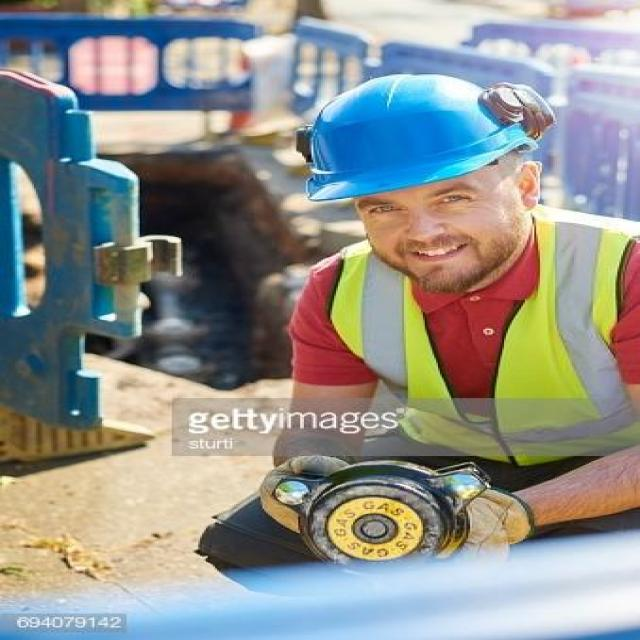helmet: (282, 70, 566, 206)
person: (262, 68, 627, 556)
vest: (324, 234, 640, 483)
